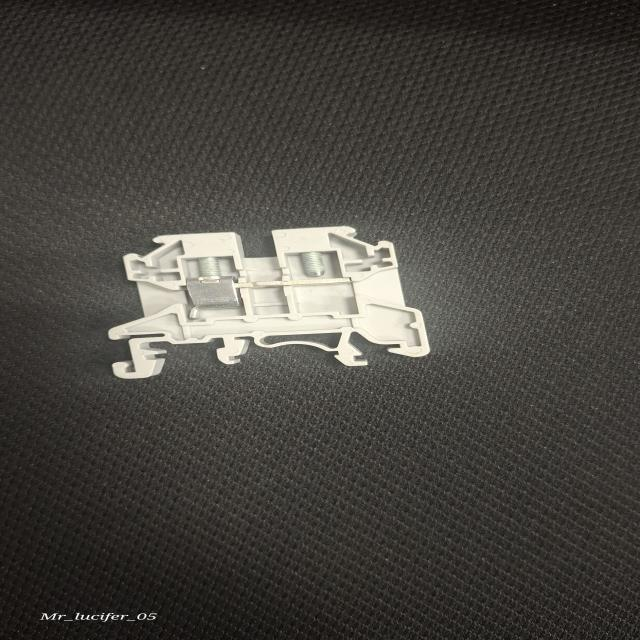Reject: (75, 220, 463, 384)
